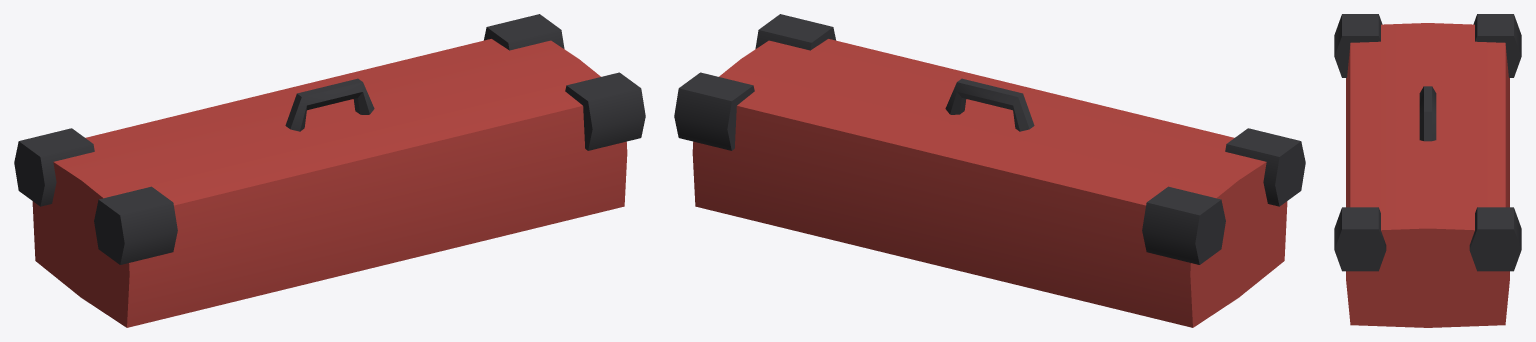
The model's file is alu_pannier_lid_lod1.glb.
3 renders of one model, left to right at view 1: azimuth 30°, elevation 25°; view 2: azimuth 150°, elevation 25°; view 3: azimuth 270°, elevation 25°, orthographic. The views are drawn at different scales.
Visible parts, largest first — view 1: alu_pannier_lid_lod1; view 2: alu_pannier_lid_lod1; view 3: alu_pannier_lid_lod1.
Boxes of the visible parts, x1,y1,x2,y2 form: alu_pannier_lid_lod1: [14, 14, 645, 327]; alu_pannier_lid_lod1: [674, 14, 1305, 327]; alu_pannier_lid_lod1: [1334, 14, 1521, 327].
Bounding box in the file's own units: 0.49 × 0.1341 × 0.18.
